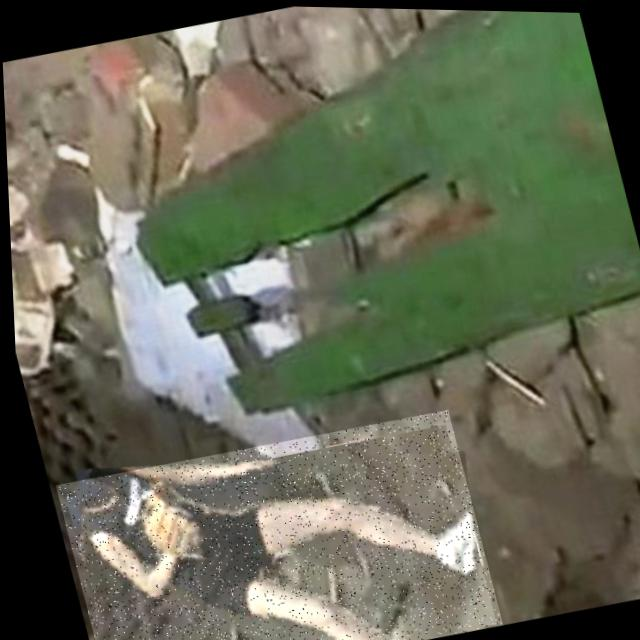Person in Rubble: (47, 400, 497, 640)
